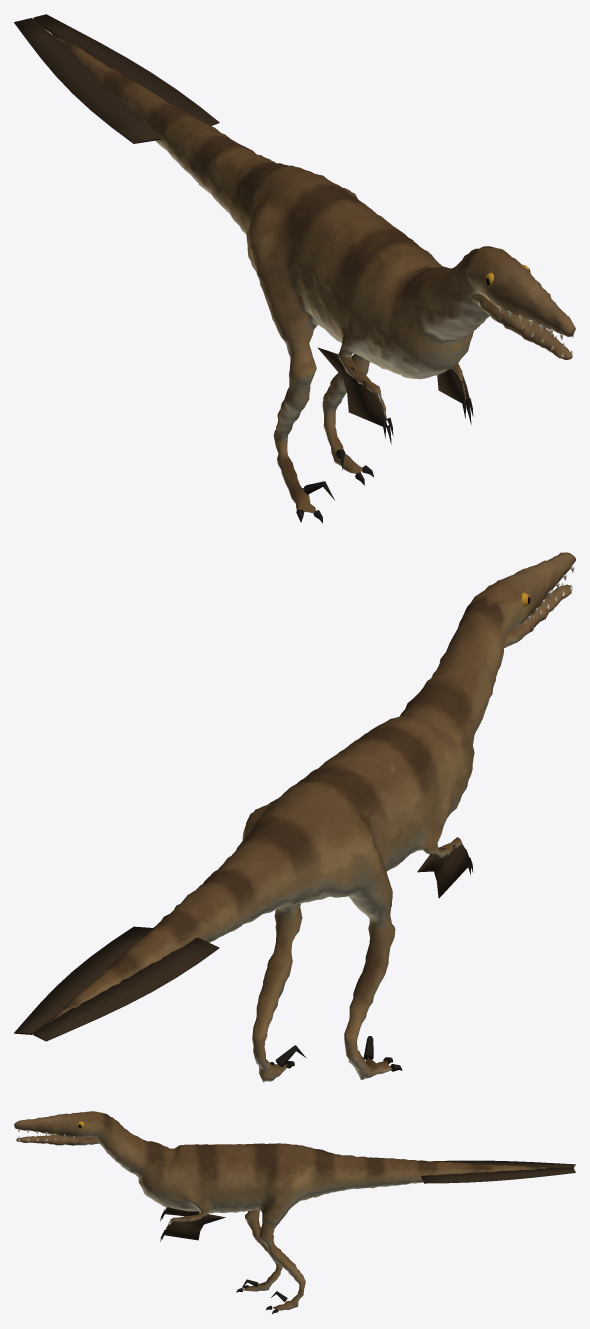
File: Velociraptor.fbx
3 renders of one model, top to bottom at view 1: azimuth 30°, elevation 25°; view 2: azimuth 150°, elevation 25°; view 3: azimuth 270°, elevation 25°, orthographic. The views are drawn at different scales.
Visible parts, largest first — view 1: Velociraptor; view 2: Velociraptor; view 3: Velociraptor.
Boxes of the visible parts, x1,y1,x2,y2 form: Velociraptor: (14,14,575,523); Velociraptor: (14,552,575,1082); Velociraptor: (14,1111,575,1313).
Bounding box in the file's own units: 0.2437 × 0.7104 × 1.91.
